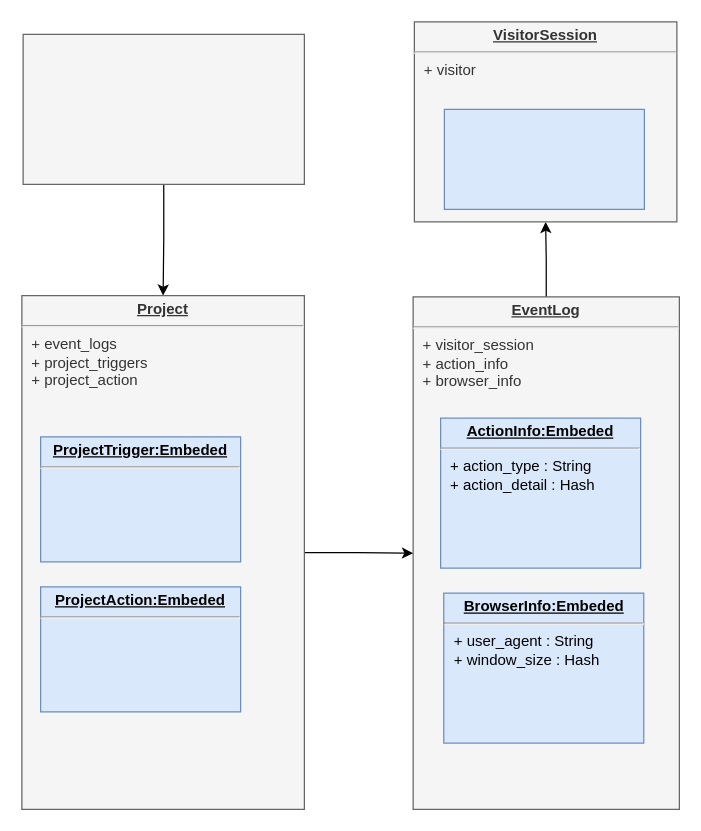
Some shapes in this 701 by 831 pixel diagram are drawn without their labels. The centre of each missing label's shape, as x and y in pixels:
"Client + projects" goes at (163,108).
"Visitor:Embeded + customer_uid : String" goes at (543,158).
